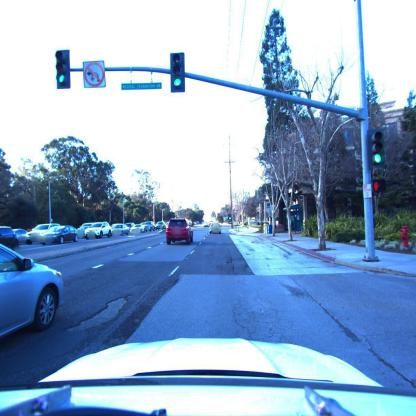car: (0, 235, 64, 366), (27, 224, 77, 247), (166, 218, 194, 244), (80, 223, 113, 240), (0, 226, 21, 249), (111, 223, 133, 237), (12, 230, 30, 246), (140, 222, 154, 232), (210, 221, 221, 233), (155, 221, 166, 231)
fire hydrant: (400, 228, 411, 249)
sign: (83, 61, 106, 89), (122, 83, 162, 90)
traffic light: (54, 51, 70, 90), (171, 53, 186, 93), (370, 130, 385, 168), (372, 175, 386, 194)
